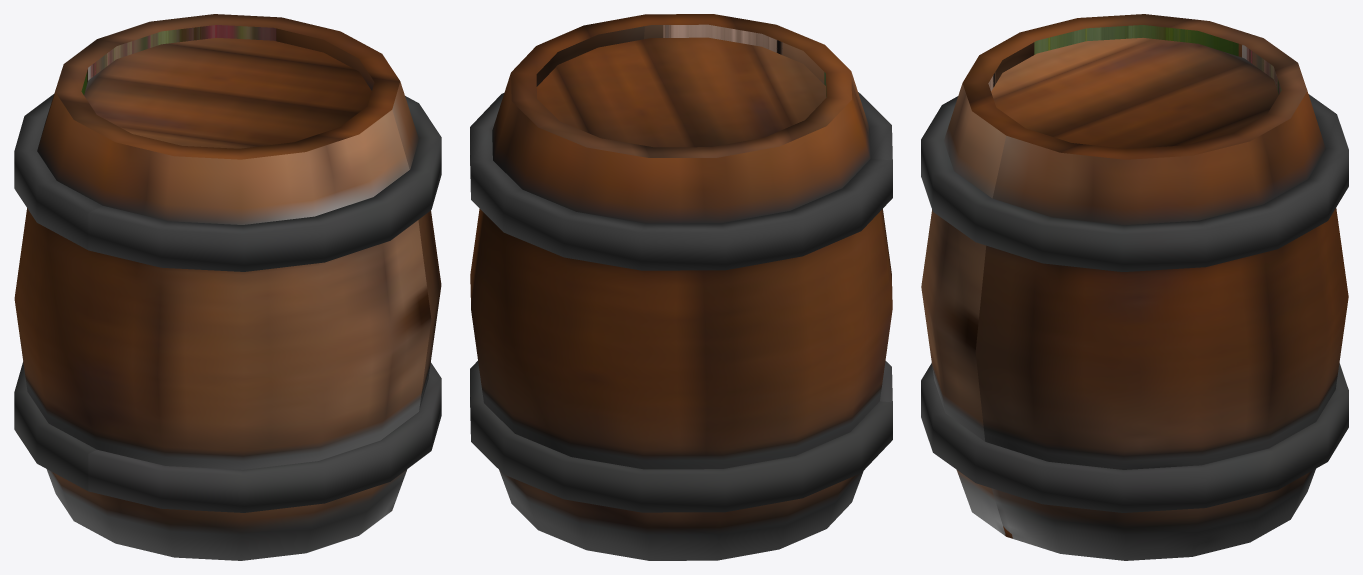
File: Barril.fbx
3 renders of one model, left to right at view 1: azimuth 30°, elevation 25°; view 2: azimuth 150°, elevation 25°; view 3: azimuth 270°, elevation 25°, orthographic.
Parts seen in each view (by area): view 1: Barril; view 2: Barril; view 3: Barril.
Part boxes in pixels (box(x1,y1,x2,y2)): Barril: box(14, 14, 441, 560); Barril: box(470, 14, 892, 560); Barril: box(921, 14, 1348, 560).
Bounding box in the file's own units: 145 × 145 × 150.
